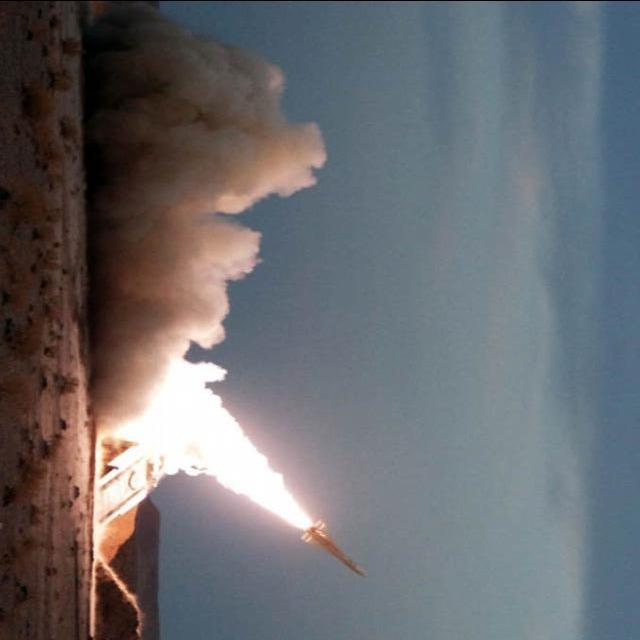Missile: (296, 523, 371, 585)
